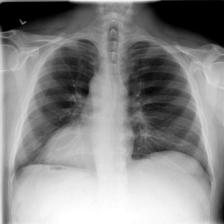normal: (9, 29, 216, 201)
